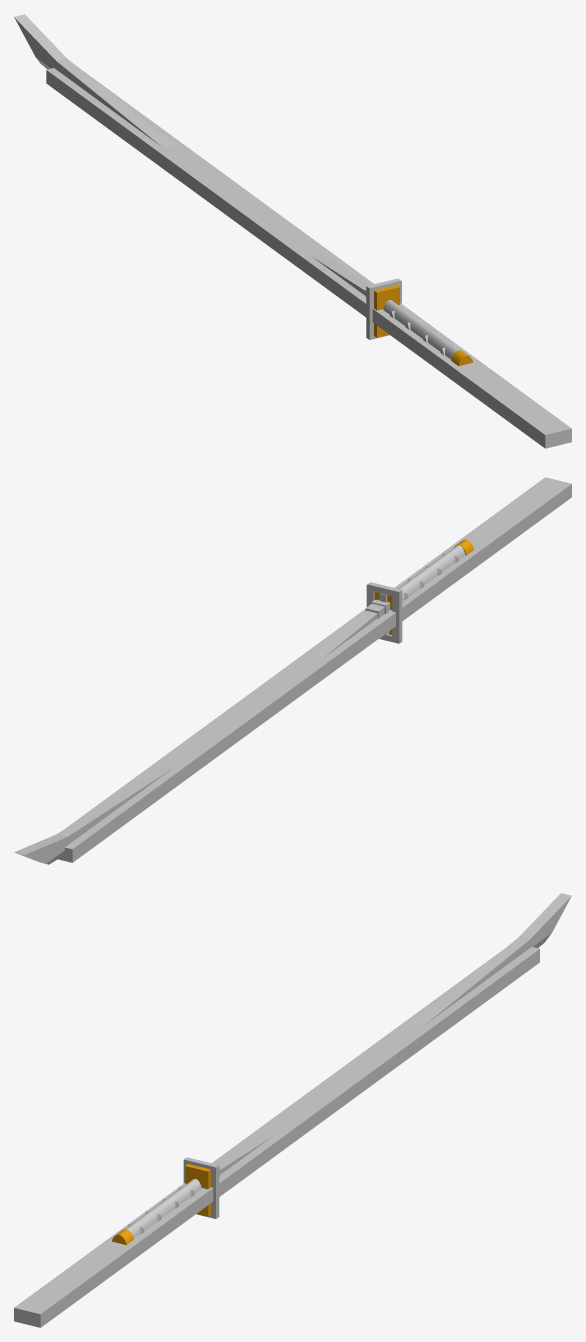
Rendered from katana model.obj.
The picture shows the model from 3 angles, top to bottom: view 1: azimuth 30°, elevation 25°; view 2: azimuth 150°, elevation 25°; view 3: azimuth 330°, elevation 25°; orthographic projection.
Visible parts, largest first — view 1: Handle1, Union5, Meshpart2, Part7; view 2: Handle1, Union5, Meshpart2; view 3: Handle1, Union5, Meshpart2, Part7.
Part boxes in pixels (box(x1,y1,x2,y2)): Handle1: box(46, 67, 571, 448); Union5: box(14, 14, 370, 295); Meshpart2: box(383, 300, 459, 359); Part7: box(374, 285, 399, 337); Handle1: box(58, 477, 571, 862); Union5: box(14, 611, 377, 864); Meshpart2: box(398, 545, 465, 600); Handle1: box(14, 947, 539, 1327); Union5: box(215, 893, 571, 1174); Meshpart2: box(125, 1178, 201, 1238); Part7: box(185, 1164, 210, 1216).
Bounding box in the file's own units: 0.3 × 0.4619 × 8.62.
